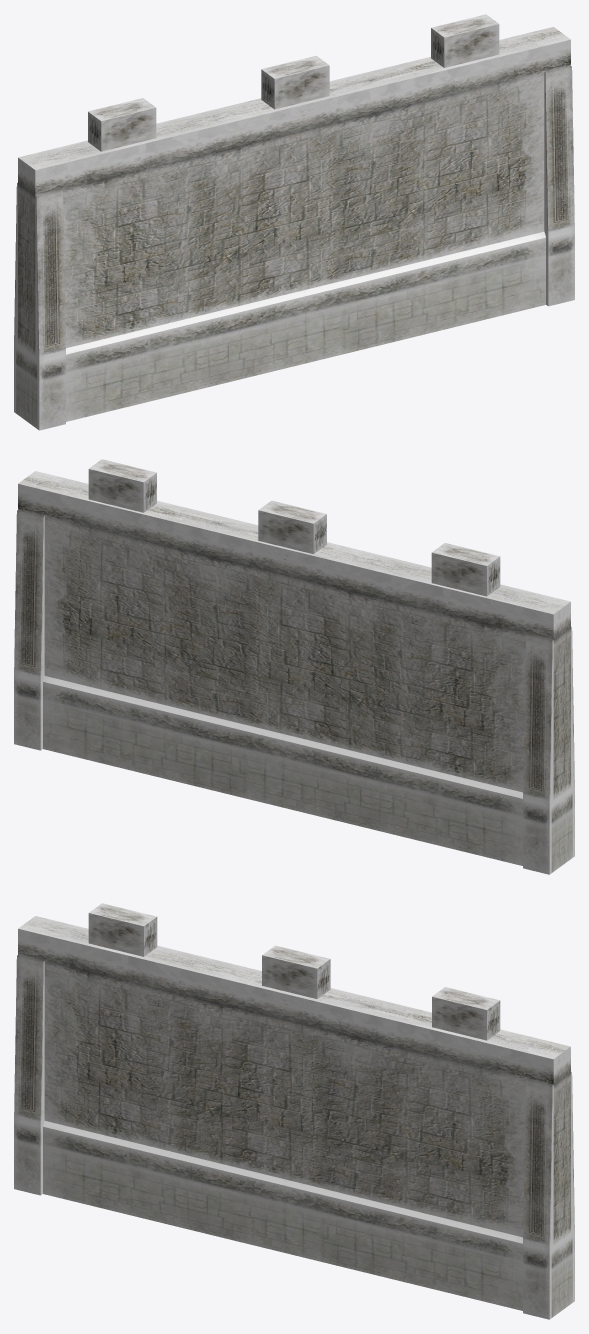
File: snow-bigdam-02.glb
3 views of the same model, one above another, from view 1: azimuth 30°, elevation 25°; view 2: azimuth 150°, elevation 25°; view 3: azimuth 330°, elevation 25° (orthographic).
Visible parts, largest first — view 1: snow-bigdam-01; view 2: snow-bigdam-01; view 3: snow-bigdam-01.
Part boxes in pixels (<box>): snow-bigdam-01: <box>14,14,574,430</box>; snow-bigdam-01: <box>14,459,574,874</box>; snow-bigdam-01: <box>14,903,574,1319</box>.
Size of the model in its own units: 10.01 by 5.14 by 0.8224.
1 material, 1 textured.
